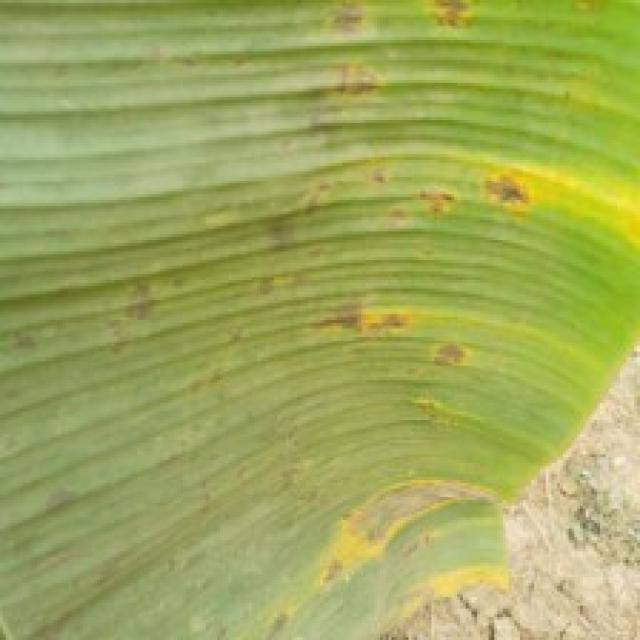Downey_mildrew: (13, 1, 640, 639)
